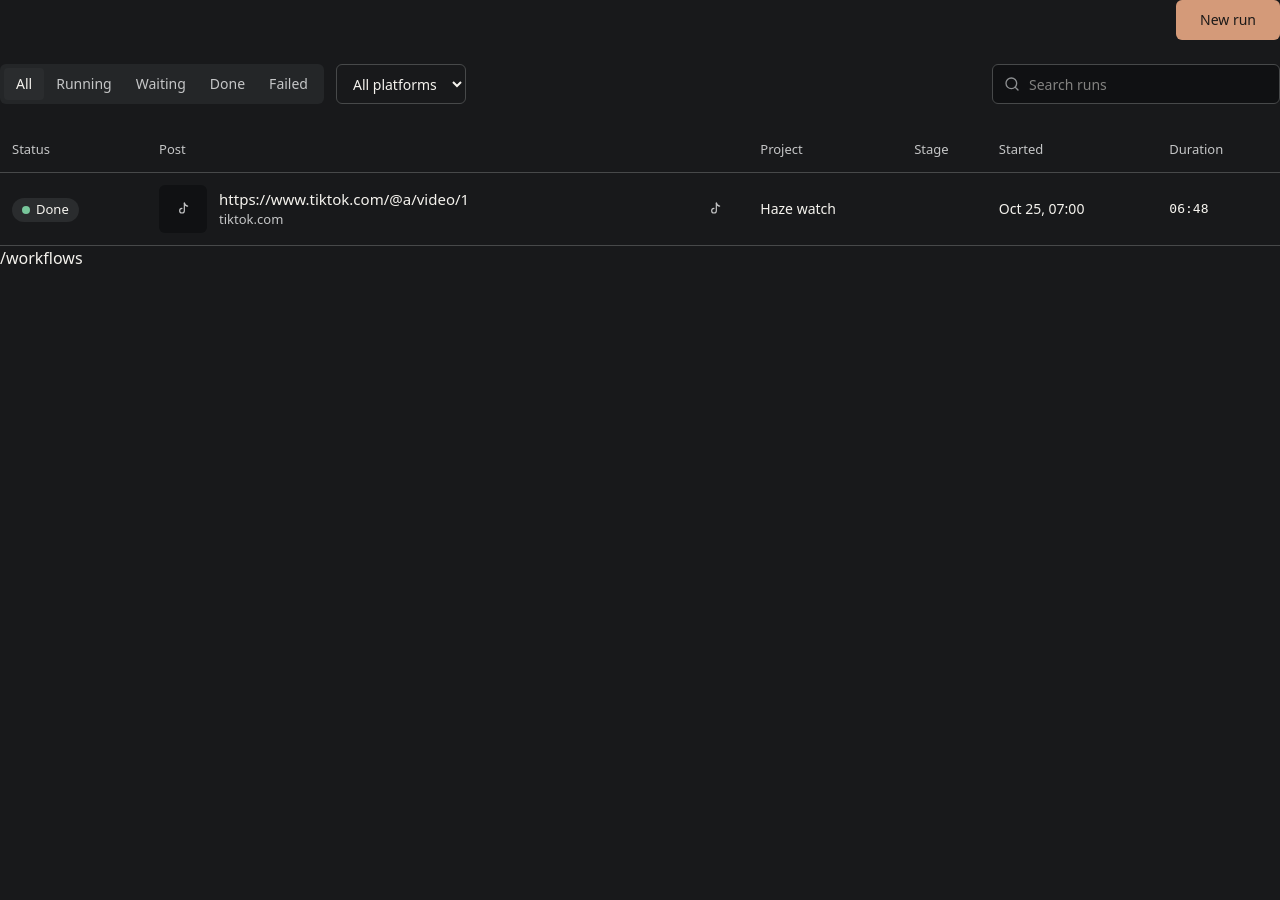
from all projects the dialog asks for one; a retry reuses its key; the allowance says so
Expected: the link "https://www.tiktok.com/@a/video/1" is shown, top-left (219, 188), bottom-right (469, 210)
Click the button "New run". click: (1228, 20)
box: top-left (1176, 0), bottom-right (1279, 40)
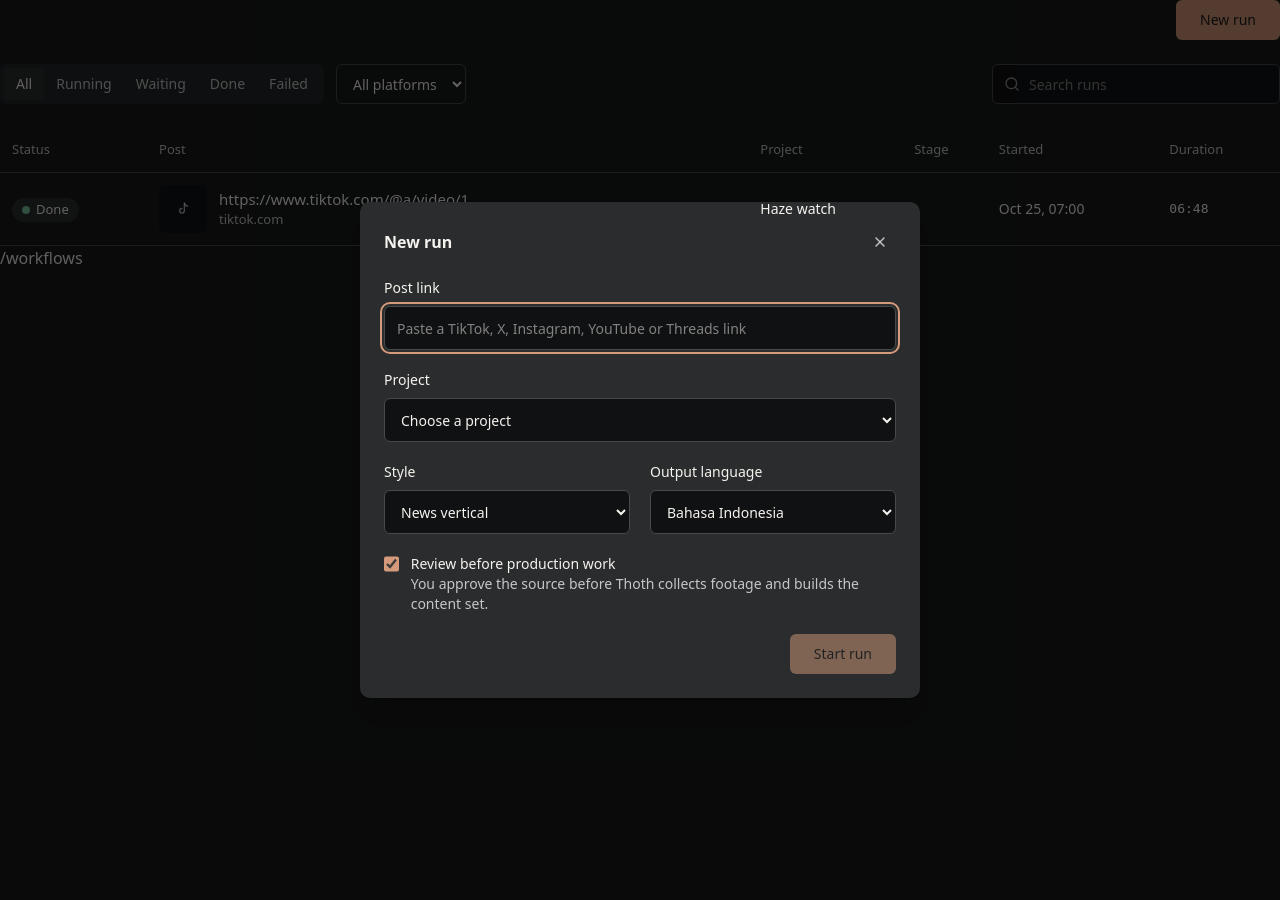
Type "https://x.com/a/status/1" into the field labelled "Post link". click: (640, 328)
box: top-left (384, 306), bottom-right (896, 350)
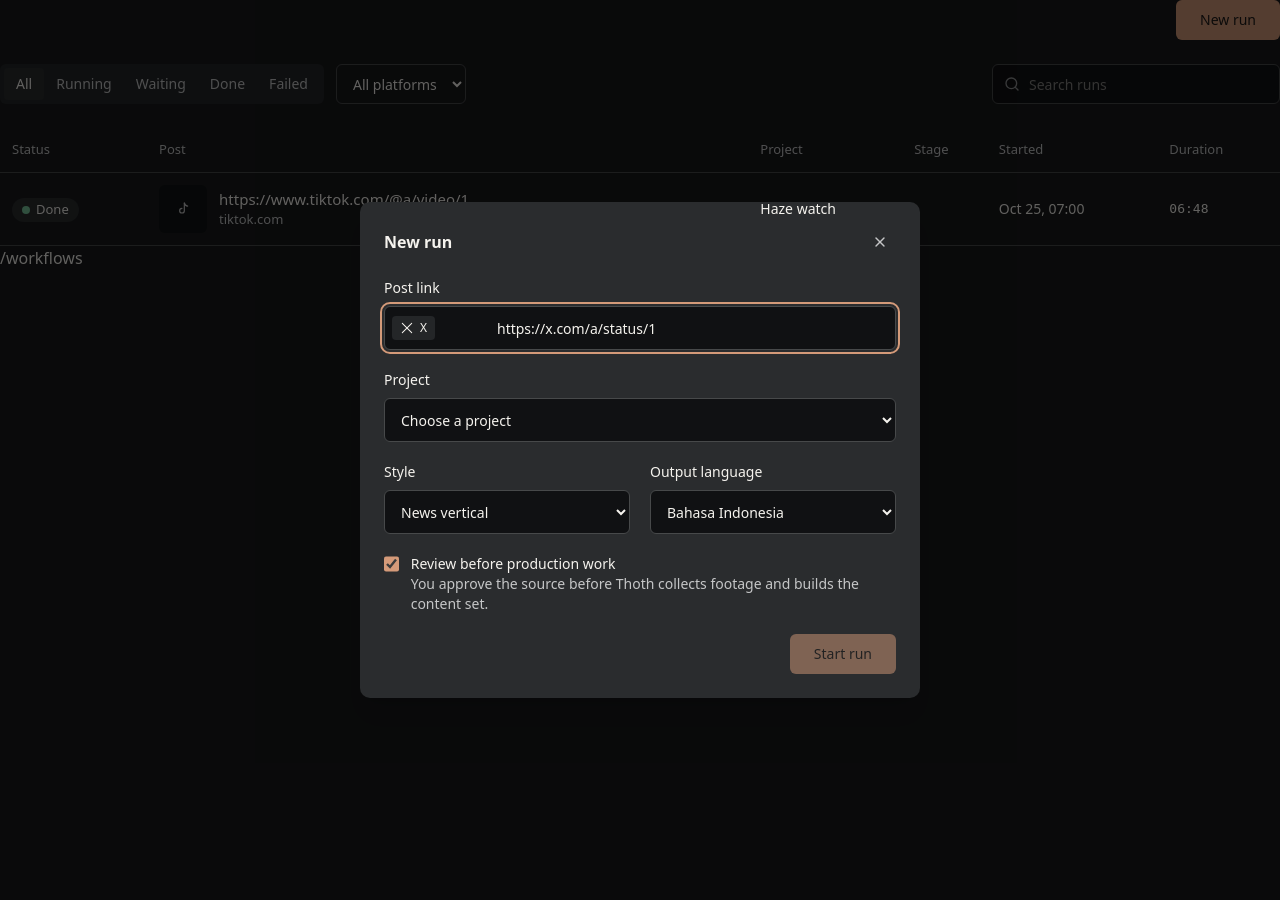
Expected: the dropdown labelled "Style" is shown, top-left (384, 490), bottom-right (630, 534)
Expected: the button "Start run" is disabled, top-left (790, 634), bottom-right (896, 674)
Select "News" in the dropdown labelled "Project". click: (640, 420)
box: top-left (384, 398), bottom-right (896, 442)
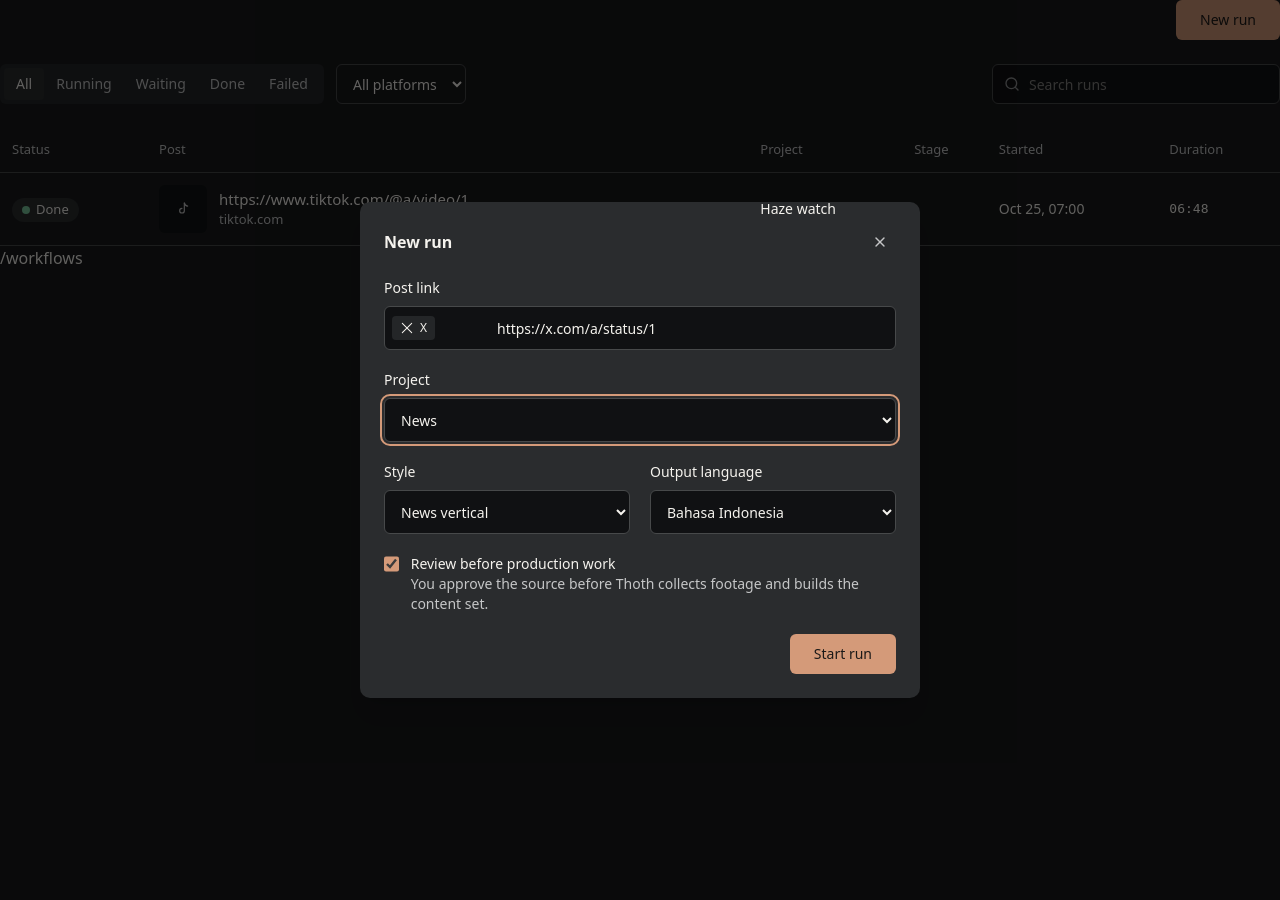
Click the button "Start run". click: (843, 654)
box: top-left (790, 634), bottom-right (896, 674)
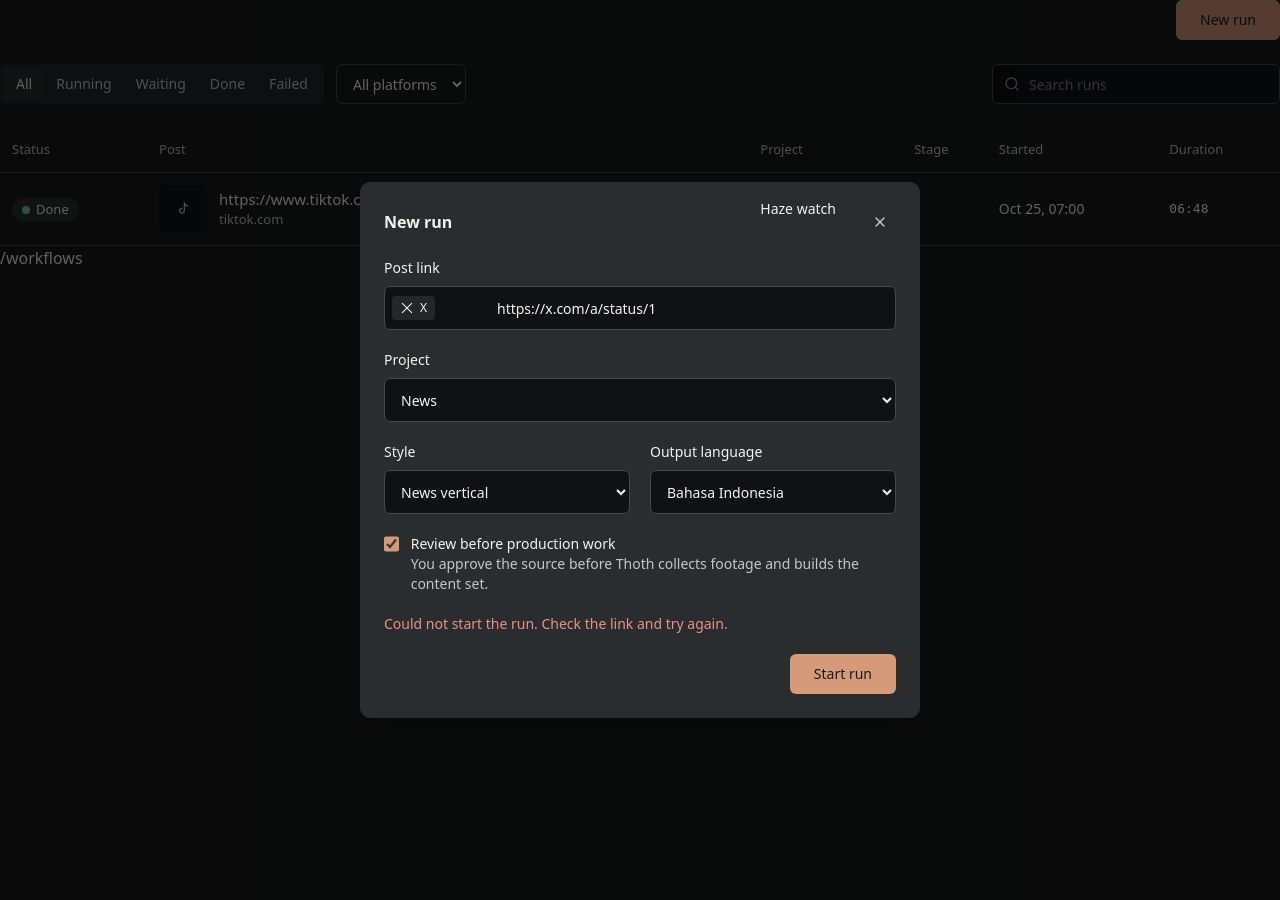
Expected: the text "Could not start the run. Check the link and try again." is shown, top-left (384, 614), bottom-right (728, 633)
Click the button "Start run". click: (843, 674)
box: top-left (790, 654), bottom-right (896, 694)
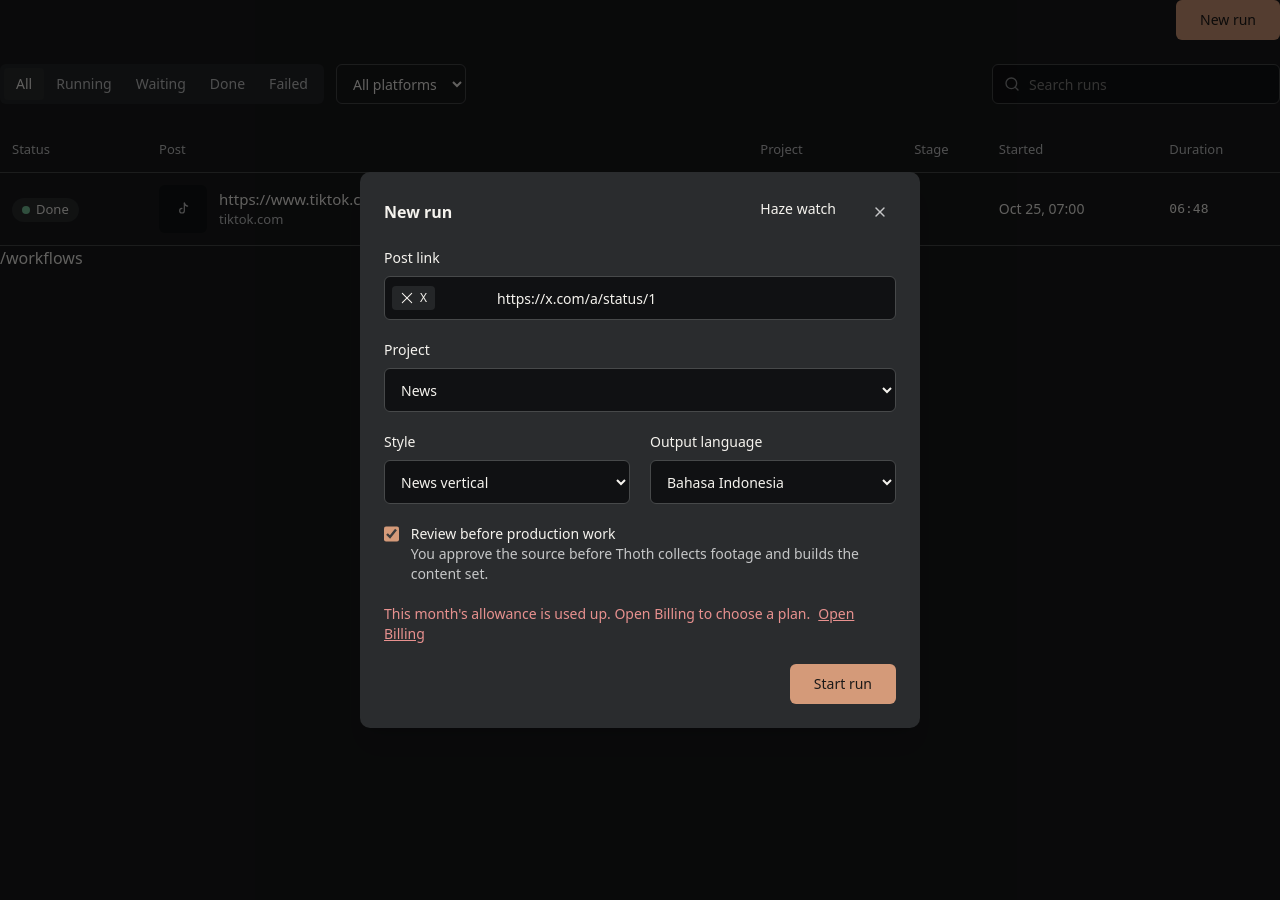
Expected: the text "This month's allowance is used up. Open Billing to choose a plan. Open Billing" is shown, top-left (384, 604), bottom-right (896, 644)
